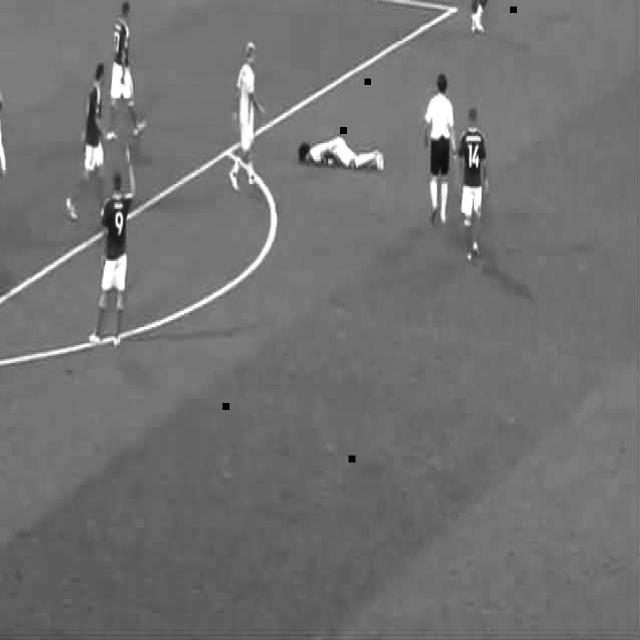player-white: (86, 146, 136, 350), (65, 64, 108, 220), (228, 40, 264, 194), (106, 2, 146, 138), (456, 108, 488, 262), (424, 74, 456, 224), (299, 138, 385, 170), (0, 93, 6, 254), (470, 0, 492, 32)
